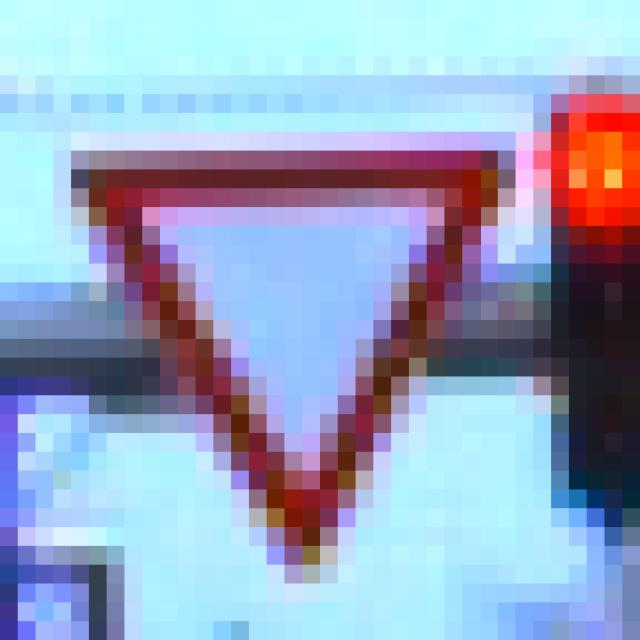Give Way: (90, 114, 552, 547)
